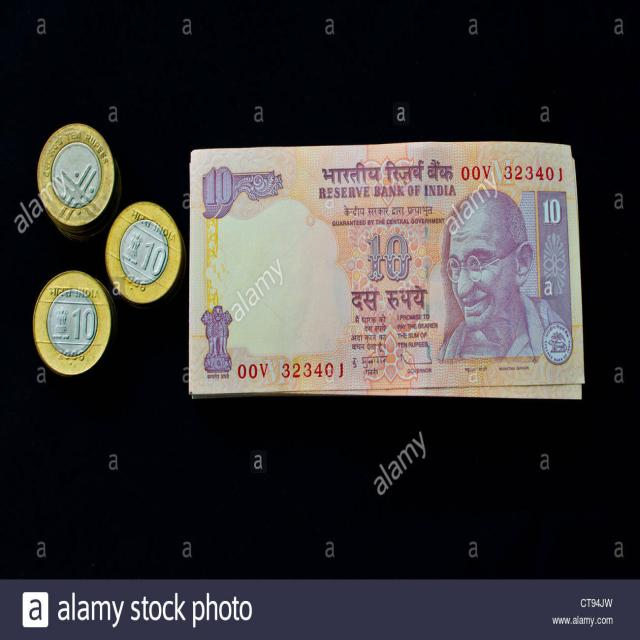10IndianRupees: (189, 150, 581, 397), (315, 148, 579, 378), (187, 150, 444, 384)
